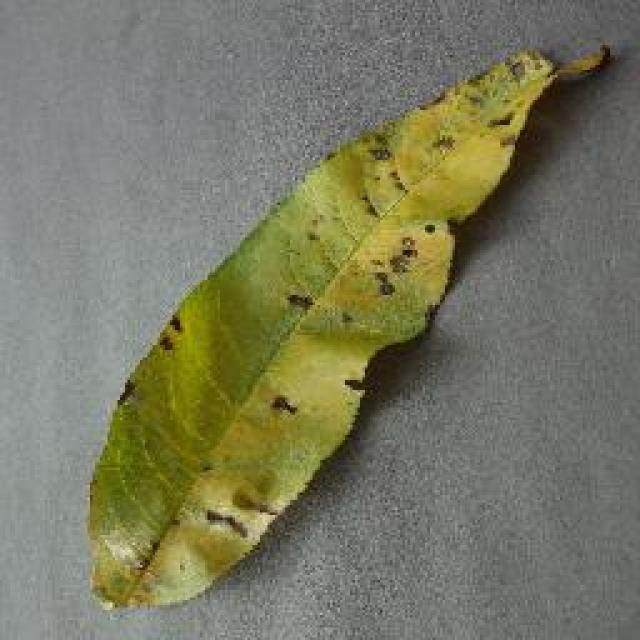Peach_Bacterial_Spot: (262, 100, 406, 550)
